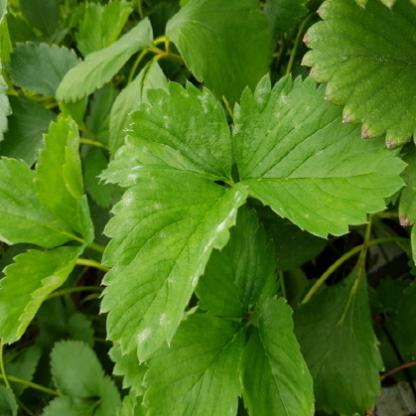Strawberry_Powdery_Mildew_Leaf: (98, 164, 249, 367), (230, 72, 408, 240), (95, 79, 237, 188)
